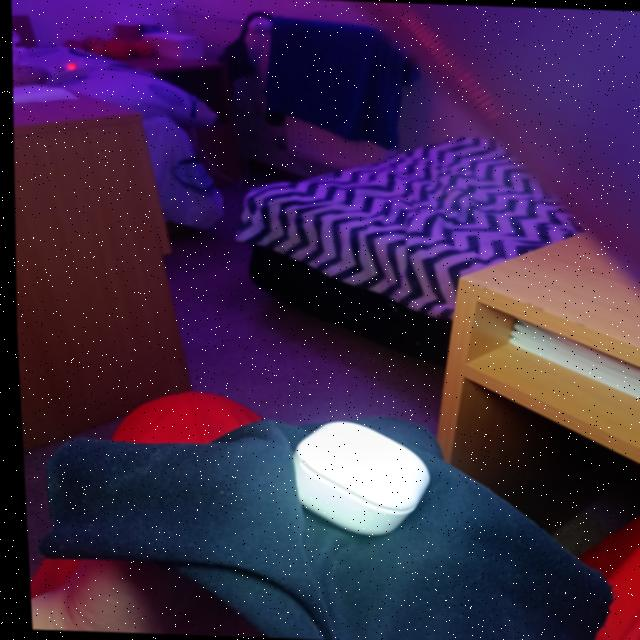headphones: (288, 421, 424, 535)
